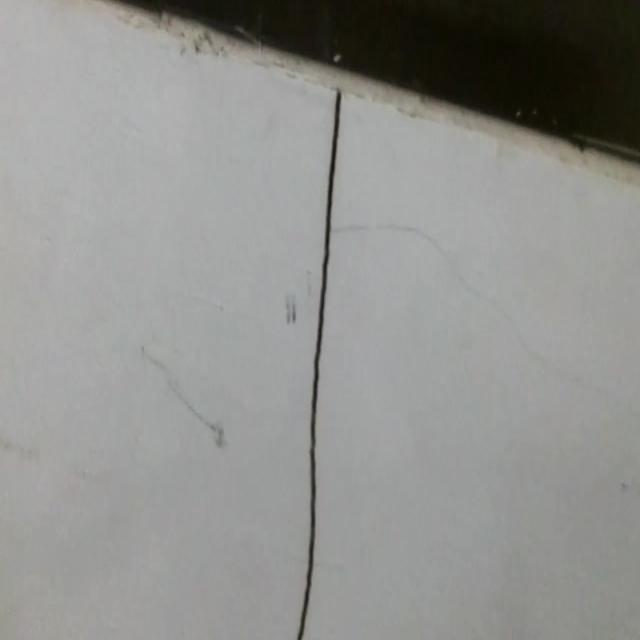Crack: (266, 79, 349, 640), (351, 180, 563, 339)
